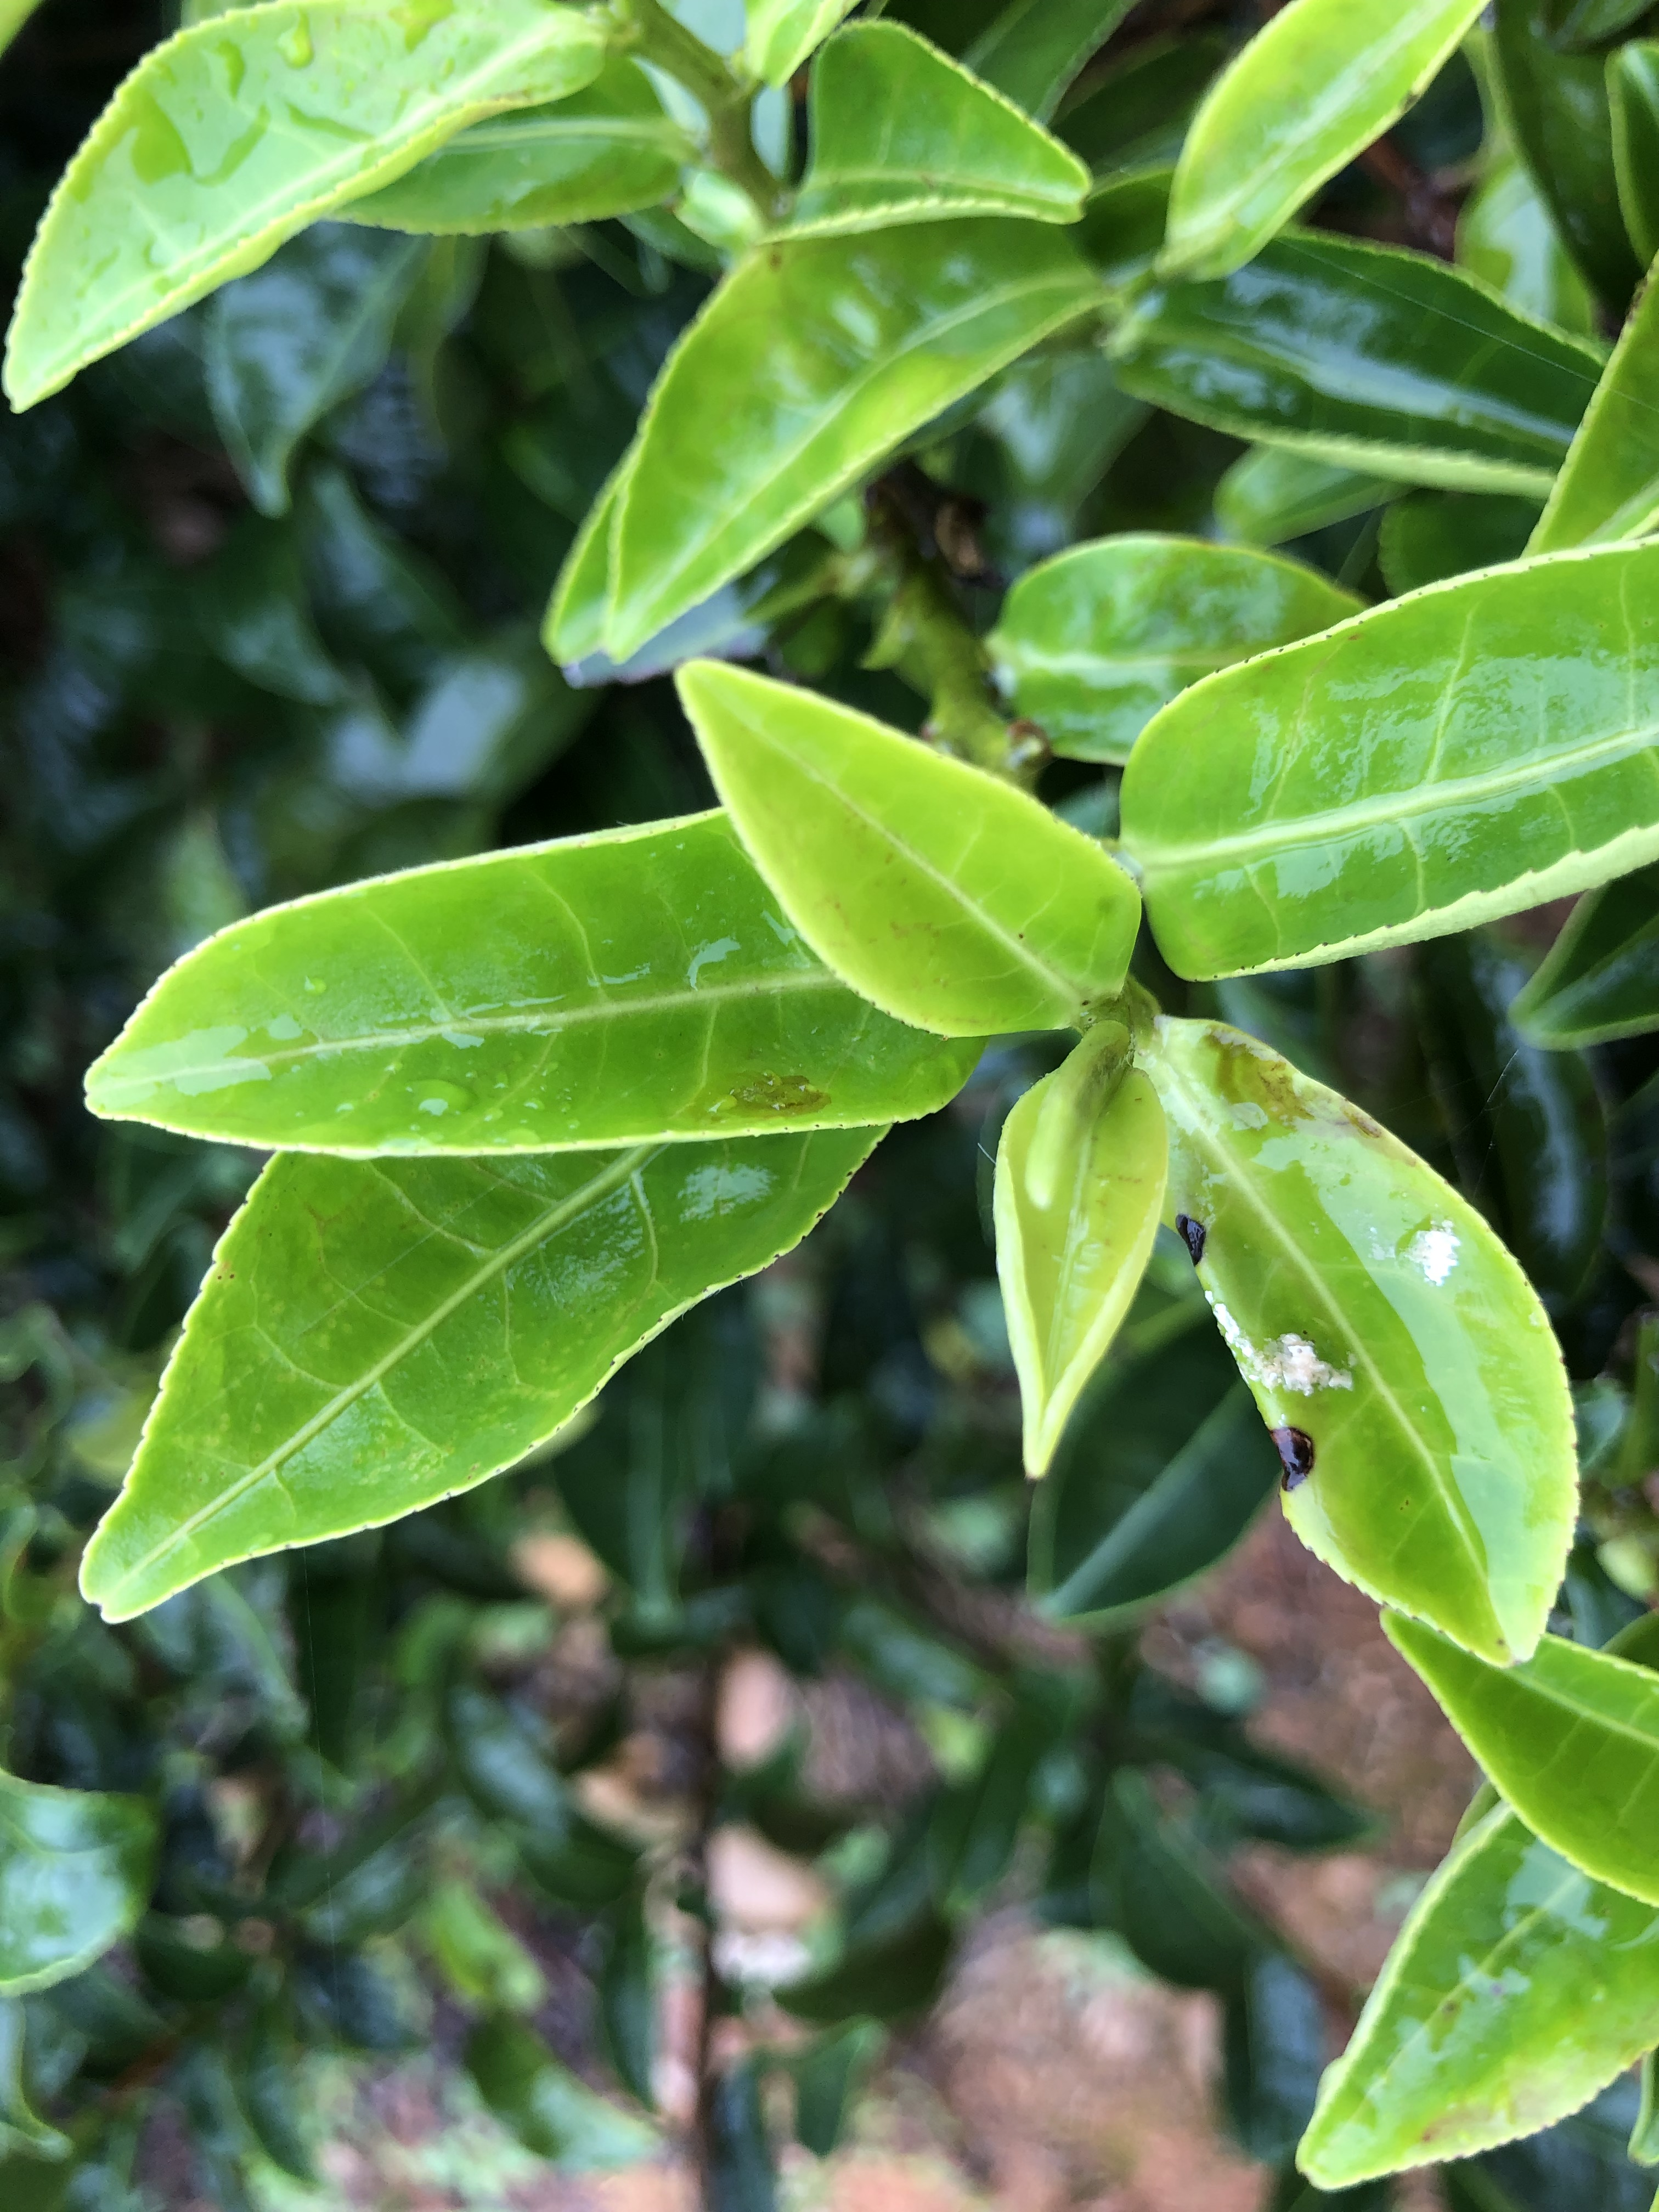brownblight: (1140, 995, 1579, 1689)
